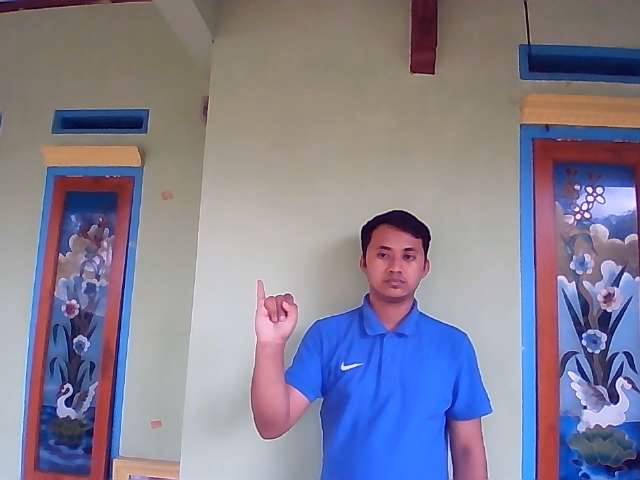I: (253, 276, 298, 343)
